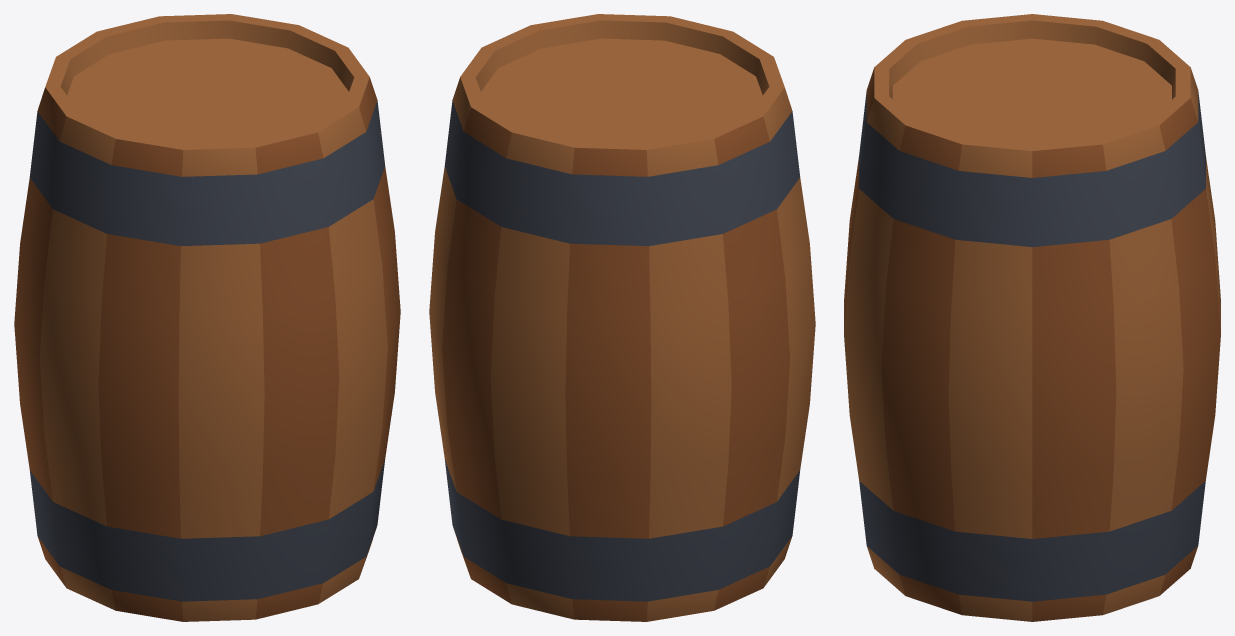
File: tropic-prop1.glb
The picture shows the model from 3 angles, left to right: view 1: azimuth 30°, elevation 25°; view 2: azimuth 150°, elevation 25°; view 3: azimuth 270°, elevation 25°; orthographic projection.
Visible parts, largest first — view 1: tropic-prop1; view 2: tropic-prop1; view 3: tropic-prop1.
Part boxes in pixels (left/top/right/bottom): tropic-prop1: left=14, top=14, right=400, bottom=621; tropic-prop1: left=429, top=14, right=815, bottom=621; tropic-prop1: left=844, top=14, right=1220, bottom=621.
Bounding box in the file's own units: 0.64 × 0.86 × 0.624.
